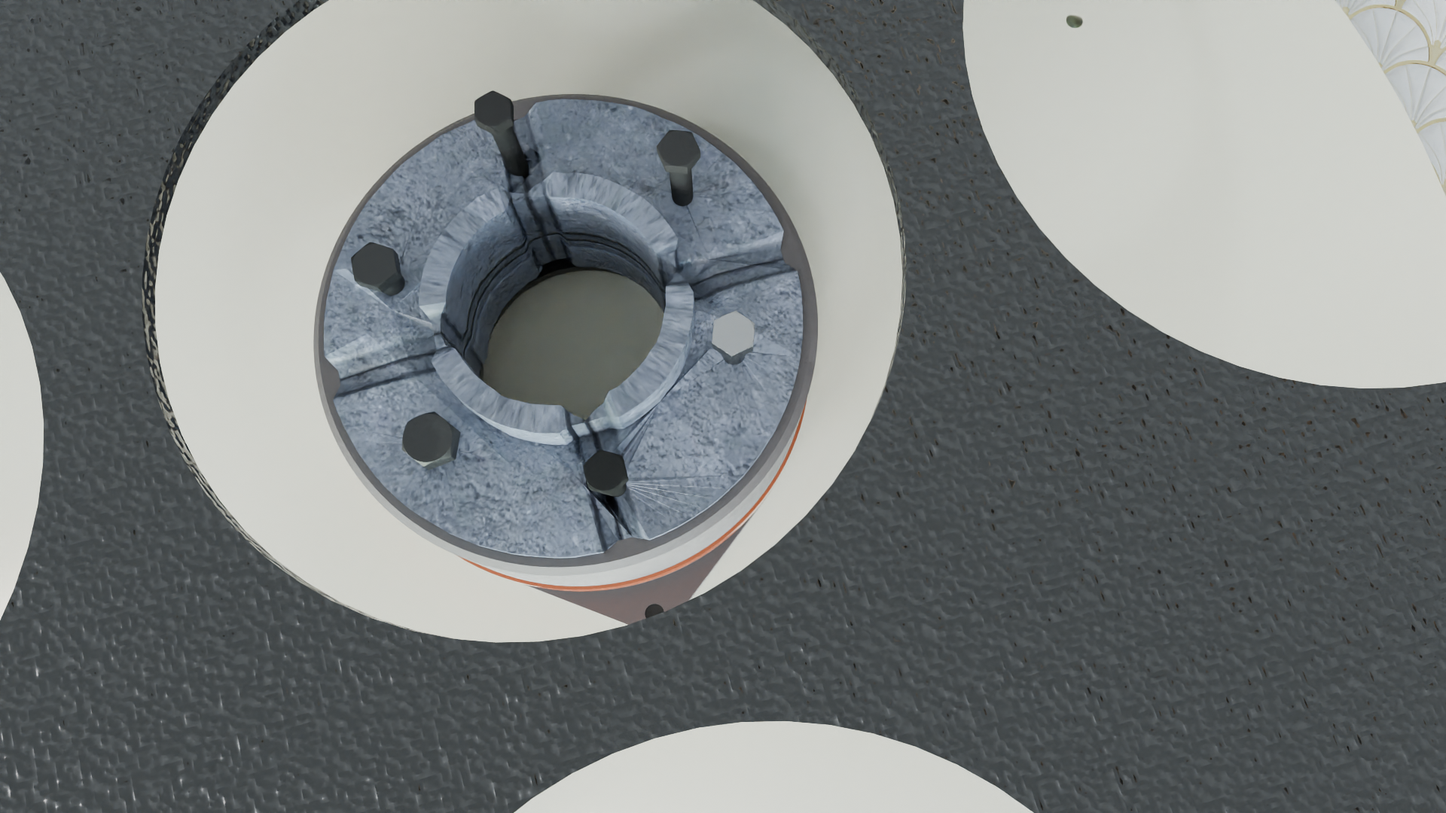bolt: (402, 411, 456, 467), (351, 242, 397, 288), (712, 311, 755, 357), (584, 450, 627, 494), (657, 130, 700, 168), (474, 90, 511, 129)
